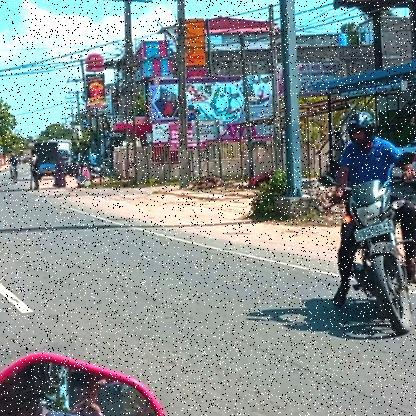motorcycle: (325, 179, 416, 340)
